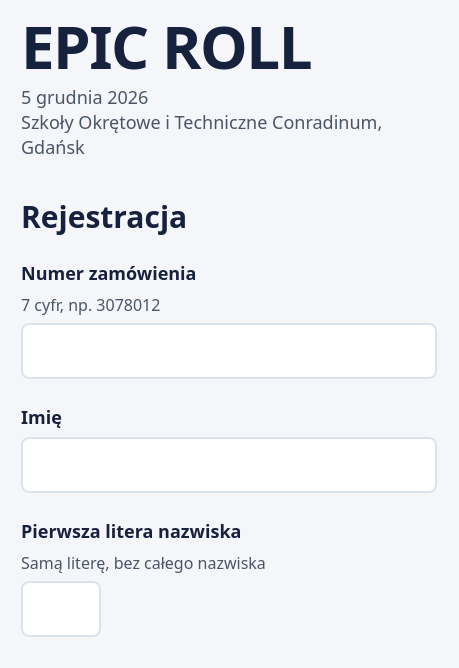
App › VALIDATION z serwera: powrót do formularza z komunikatem przy polu i wpisanymi danymi
Type "3023 567" into the field labelled "Numer zamówienia". click: (229, 351)
box: [21,323,437,379]
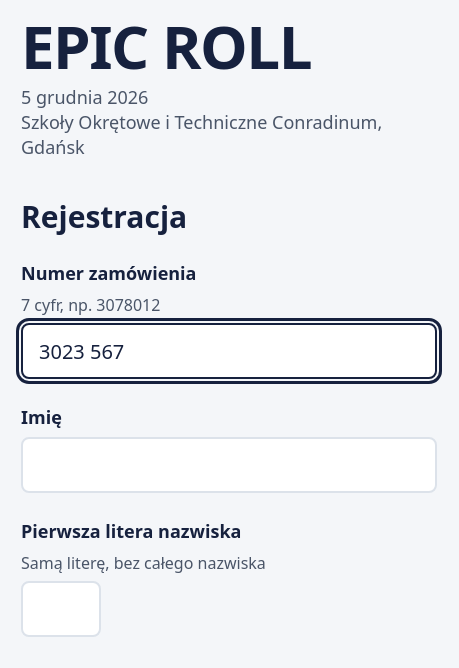
Type " Jasmina " into the field labelled "Imię". click: (229, 465)
box: [21,437,437,493]
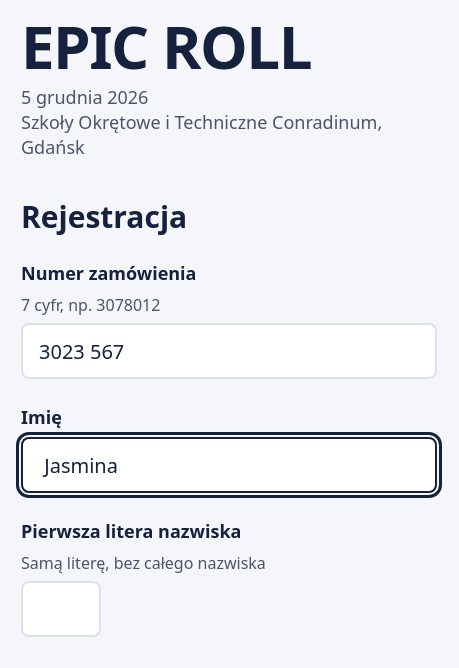
Type "k" into the field labelled "Pierwsza litera nazwiska". click: (61, 609)
box: [21,581,101,637]
(page scrolled)
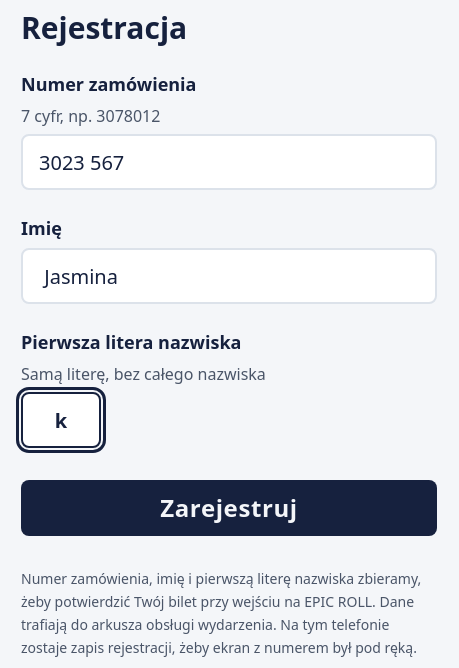
Click the button "Zarejestruj". click: click(229, 508)
box: [21,480,437,536]
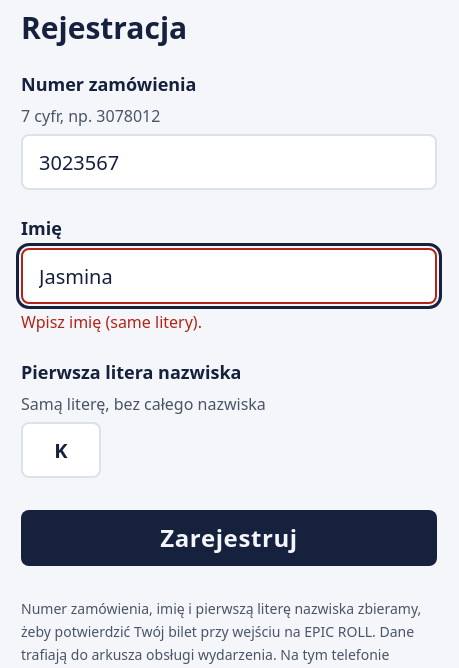
Check: the text "Wpisz imię (same litery)." is shown, box [21,311,202,333]
Check: the field labelled "Numer zamówienia" holds "3023567", box [21,134,437,190]
